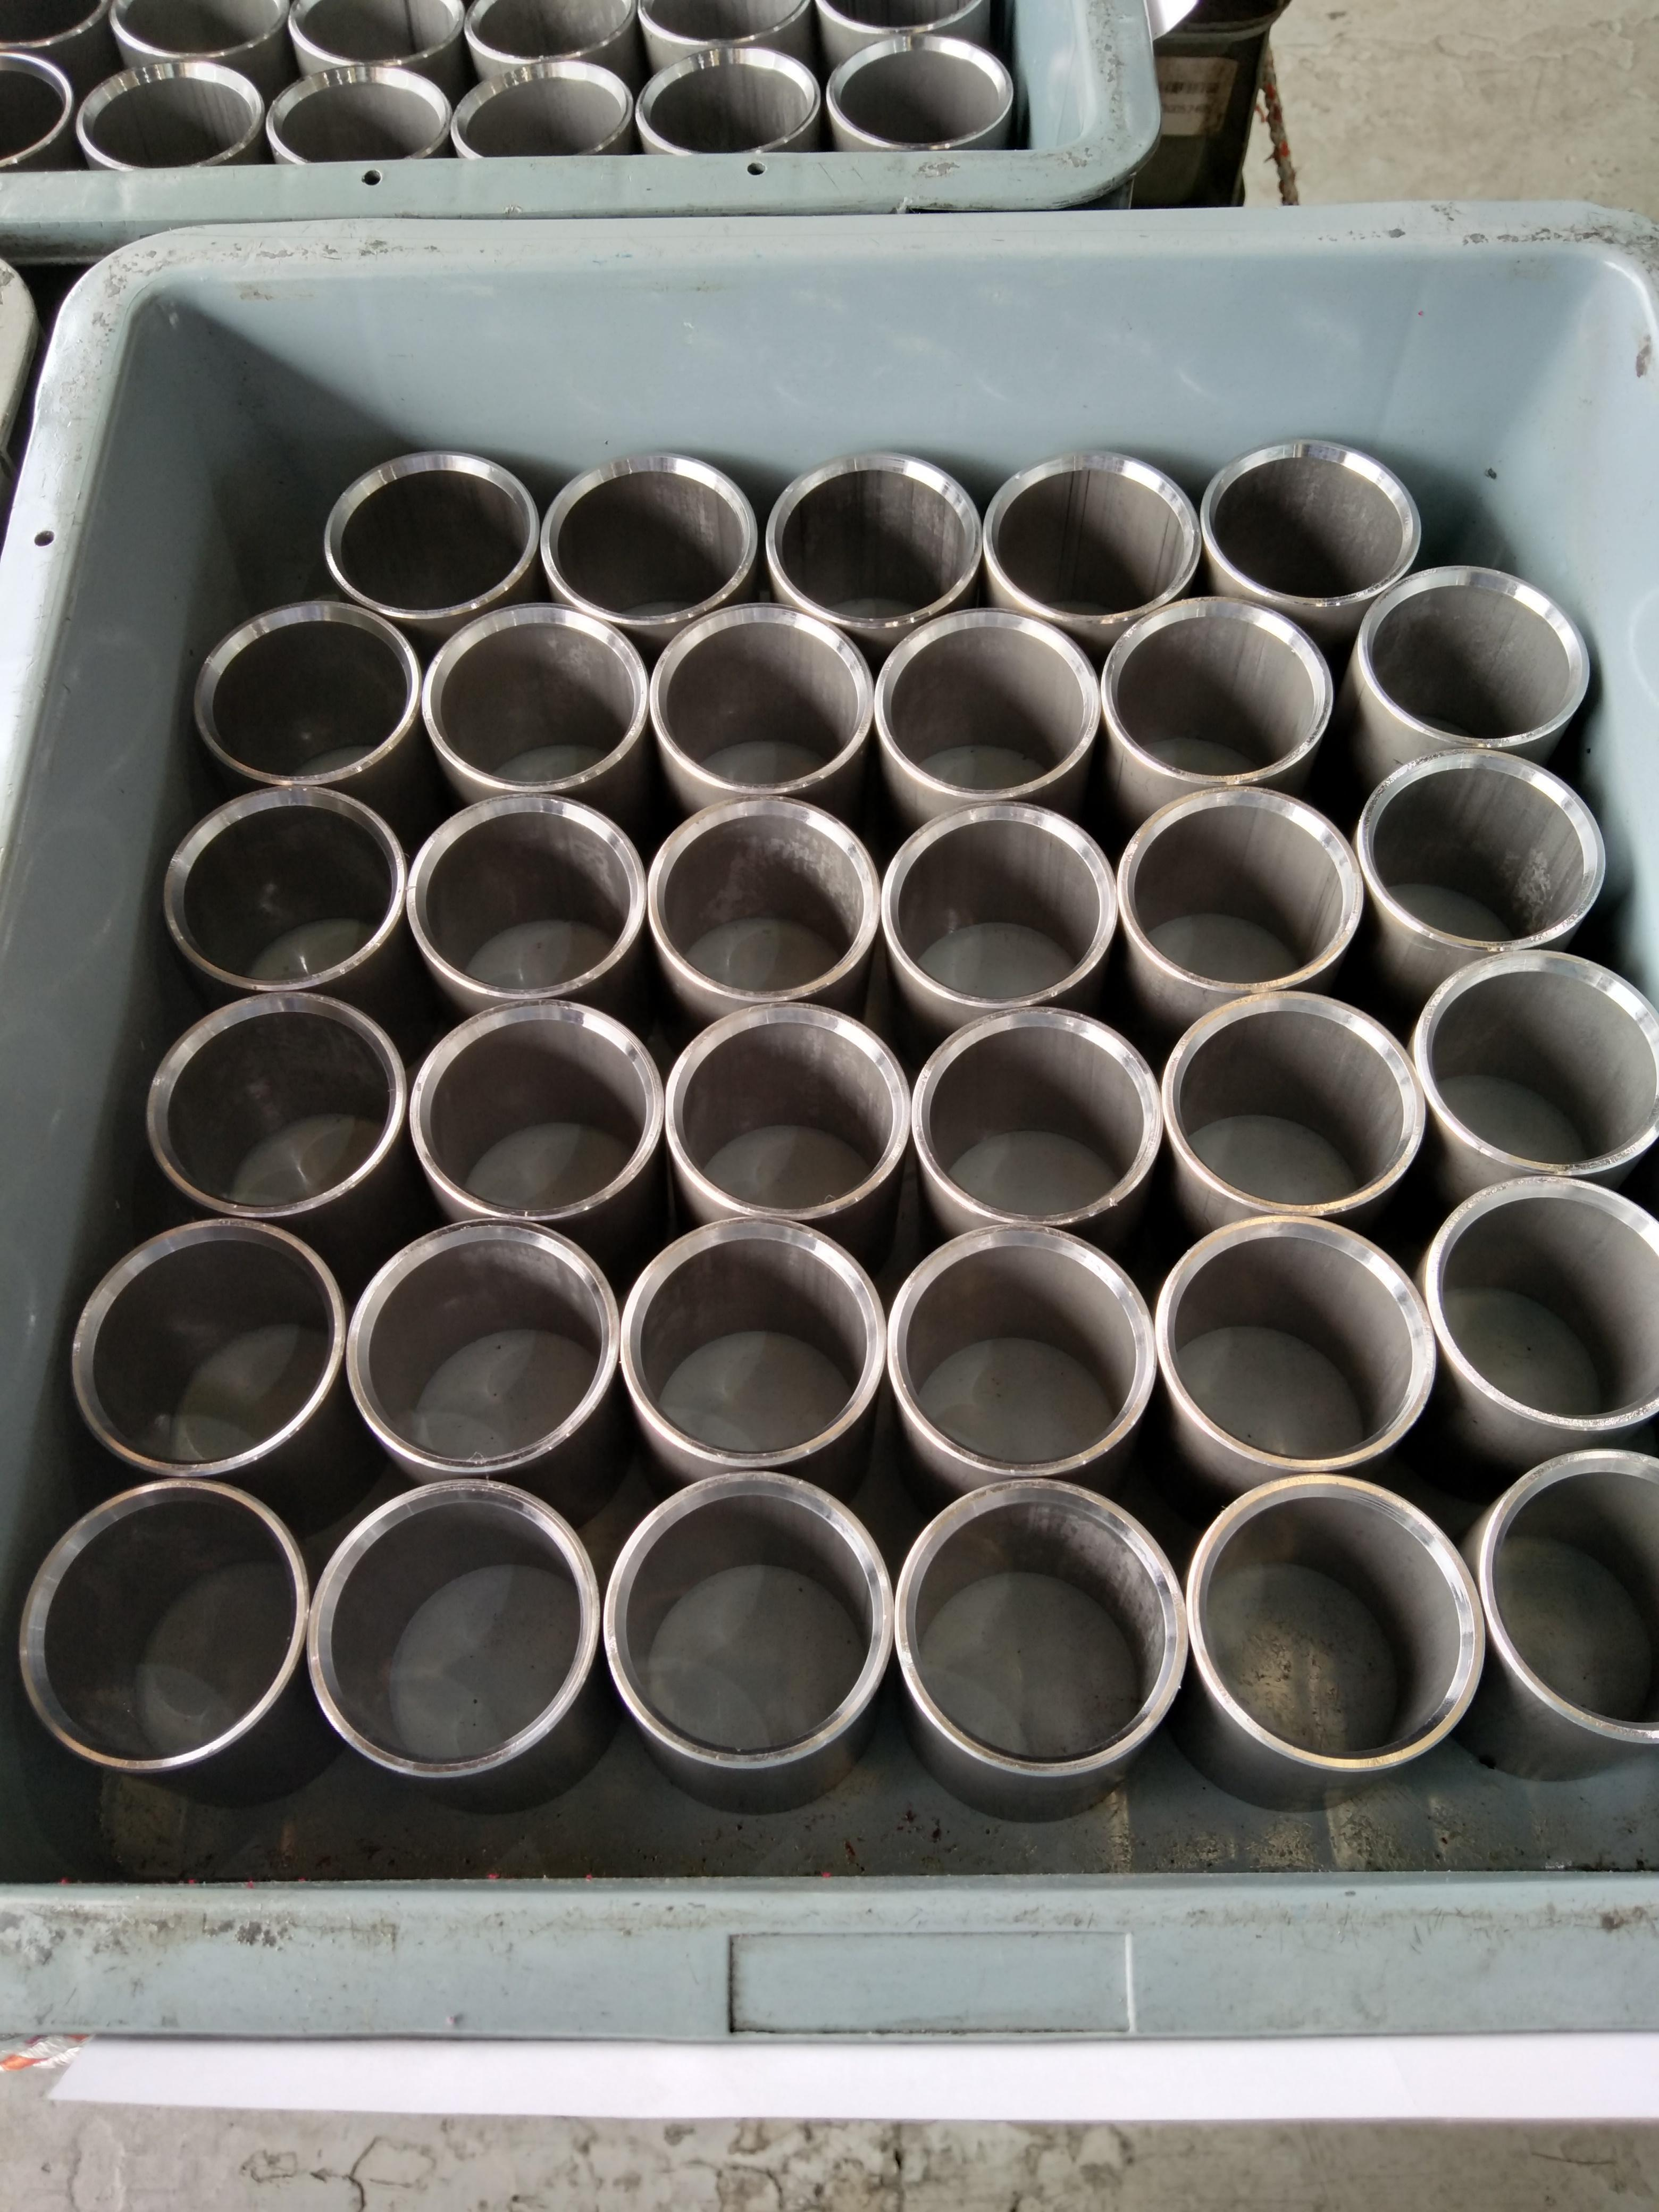pipe: (1187, 1469, 1485, 1779), (602, 1466, 896, 1777), (892, 1479, 1193, 1781), (308, 1476, 603, 1783), (13, 1474, 307, 1778), (70, 1214, 347, 1481), (1156, 1213, 1438, 1473), (345, 1214, 620, 1478), (885, 1220, 1158, 1480), (619, 1217, 887, 1470), (1159, 986, 1430, 1221), (144, 987, 408, 1221), (1425, 1176, 1659, 1436), (406, 998, 667, 1225), (1415, 946, 1659, 1187), (909, 1006, 1163, 1229), (665, 999, 911, 1223), (1117, 783, 1370, 996), (160, 782, 410, 995), (1481, 1447, 1659, 1746), (1355, 746, 1611, 951), (405, 791, 647, 1000), (880, 802, 1119, 1010), (646, 793, 883, 1002), (872, 605, 1105, 803), (647, 598, 879, 794), (188, 595, 422, 789), (1102, 595, 1339, 786), (1354, 563, 1593, 751), (422, 601, 651, 793), (539, 446, 763, 628), (763, 451, 987, 627), (1202, 435, 1427, 606), (981, 451, 1204, 622), (320, 447, 539, 621), (825, 30, 1019, 152), (70, 57, 266, 172), (634, 43, 824, 152), (263, 58, 450, 167), (446, 58, 636, 158)
